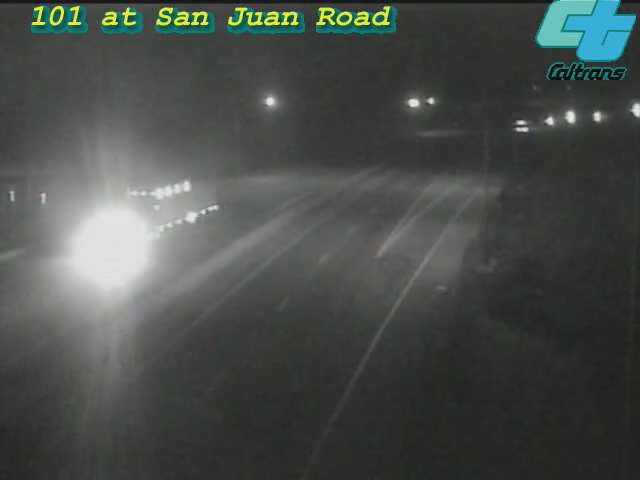vehicle: (108, 181, 188, 261), (574, 91, 624, 141), (494, 102, 544, 152), (509, 97, 559, 147), (544, 92, 594, 142), (522, 96, 572, 146), (610, 84, 640, 134)
